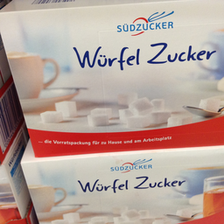sugar: (1, 1, 223, 157), (21, 144, 223, 224)
